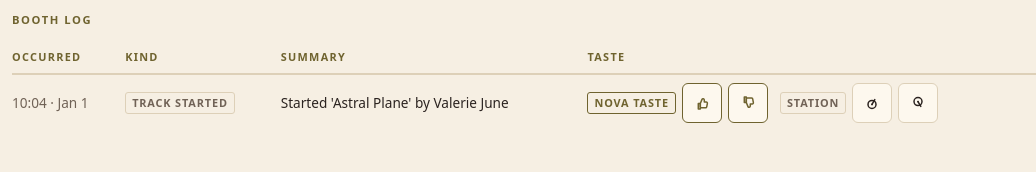
Scenario: Feature: Persona taste thumbs › Scenario: guardrails in the UI (sad path) › disables the tapped direction after recording (idempotency affordance)
The width and height of the screenshot is (1036, 172).
Click the button named "Taste down for Nova" at (748, 103), box [728,83,768,123]
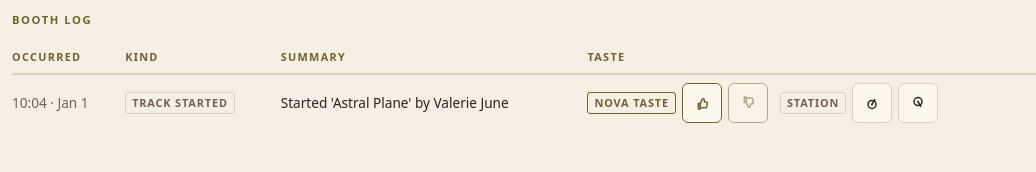
Expected: the button named "Taste up for Nova" is enabled, [682,83,722,123]
Expected: the button named "Taste down for Nova" is disabled, [728,83,768,123]
